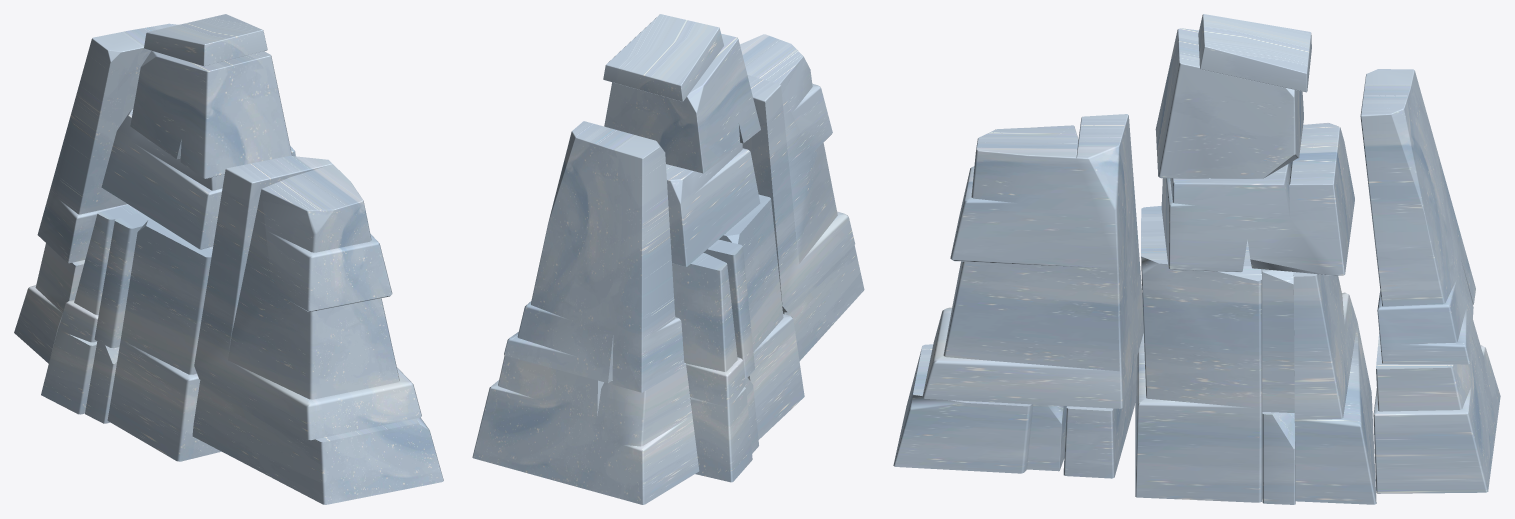
The model's file is P_ENV_rock_snow_07.gltf.
The picture shows the model from 3 angles, left to right: view 1: azimuth 30°, elevation 25°; view 2: azimuth 150°, elevation 25°; view 3: azimuth 270°, elevation 25°; orthographic projection. The views are drawn at different scales.
Parts seen in each view (by area): view 1: SM_ENV_rock_snow_07_LOD0; view 2: SM_ENV_rock_snow_07_LOD0; view 3: SM_ENV_rock_snow_07_LOD0.
Part boxes in pixels (x1,y1,x2,y2): SM_ENV_rock_snow_07_LOD0: [14, 14, 443, 504]; SM_ENV_rock_snow_07_LOD0: [472, 14, 864, 504]; SM_ENV_rock_snow_07_LOD0: [893, 14, 1500, 504].
Bounding box in the file's own units: 7.17 × 12.32 × 15.91.
Materials: 1 (1 with a texture image).
